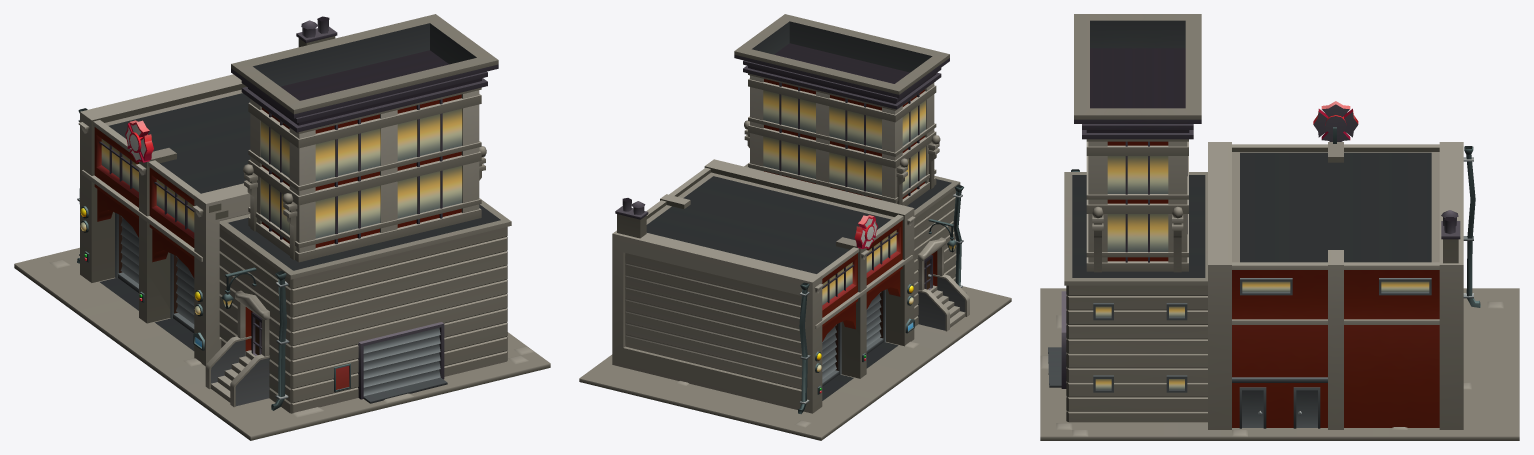
Rendered from Building_17C.fbx.
3 views of the same model, side by side, from view 1: azimuth 30°, elevation 25°; view 2: azimuth 150°, elevation 25°; view 3: azimuth 270°, elevation 25° (orthographic). The views are drawn at different scales.
Visible parts, largest first — view 1: Building_17C, Window_Lights_17C, Addon_Gate_17C.R, Addon_Gate_17C.L, Logo_17C; view 2: Building_17C, Window_Lights_17C, Addon_Gate_17C.R, Addon_Gate_17C.L, Logo_17C; view 3: Building_17C, Window_Lights_17C, Logo_17C.
Boxes of the visible parts, x1=… form: Building_17C: x1=14, y1=14, x2=550, y2=440; Window_Lights_17C: x1=101, y1=108, x2=462, y2=238; Addon_Gate_17C.R: x1=173, y1=256, x2=194, y2=333; Addon_Gate_17C.L: x1=118, y1=216, x2=138, y2=292; Logo_17C: x1=125, y1=120, x2=153, y2=162; Building_17C: x1=579, y1=14, x2=1011, y2=440; Window_Lights_17C: x1=763, y1=90, x2=925, y2=305; Addon_Gate_17C.R: x1=866, y1=292, x2=883, y2=353; Addon_Gate_17C.L: x1=822, y1=324, x2=839, y2=386; Logo_17C: x1=854, y1=215, x2=877, y2=248; Building_17C: x1=1040, y1=14, x2=1519, y2=440; Window_Lights_17C: x1=1095, y1=156, x2=1429, y2=389; Logo_17C: x1=1313, y1=101, x2=1358, y2=143.
Size of the model in its own units: 22 by 21.3 by 30.
